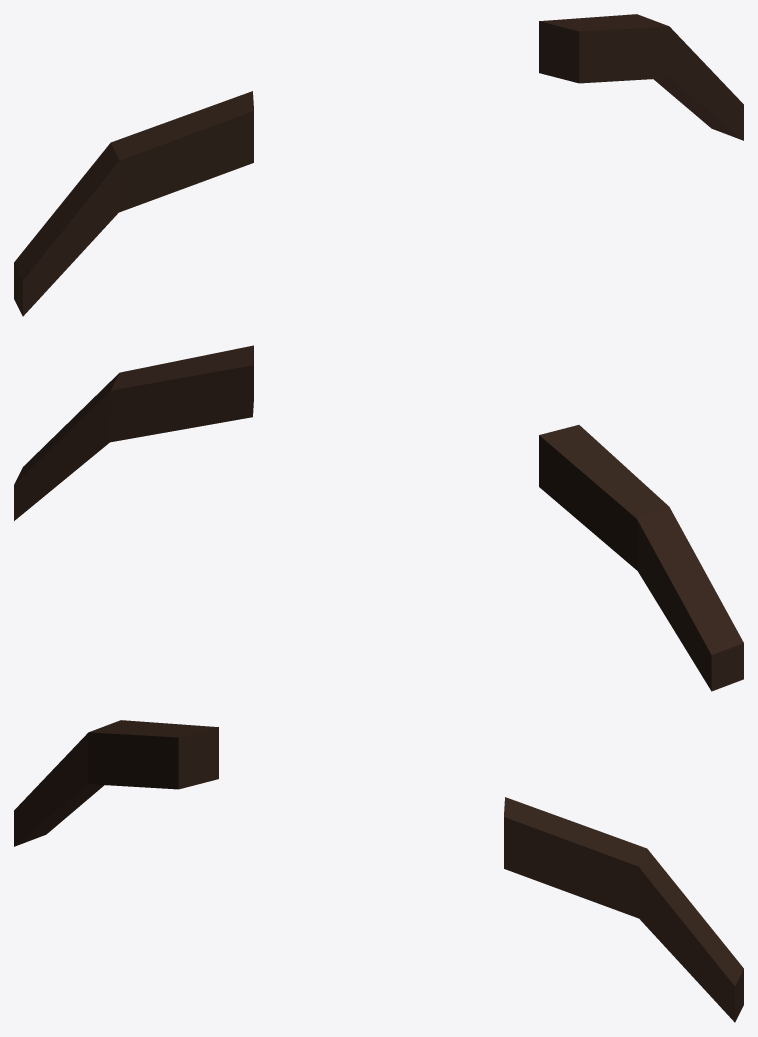
Rendered from SadEyebrowsM.glb.
3 renders of one model, top to bottom at view 1: azimuth 30°, elevation 25°; view 2: azimuth 150°, elevation 25°; view 3: azimuth 330°, elevation 25°, orthographic.
Visible parts, largest first — view 1: SadEyebrowsM.001; view 2: SadEyebrowsM.001; view 3: SadEyebrowsM.001.
Part boxes in pixels (x1=…): SadEyebrowsM.001: x1=14, y1=14, x2=743, y2=316; SadEyebrowsM.001: x1=14, y1=345, x2=743, y2=691; SadEyebrowsM.001: x1=14, y1=720, x2=743, y2=1022.
Bounding box in the file's own units: 1.95 × 0.4696 × 0.2519.
